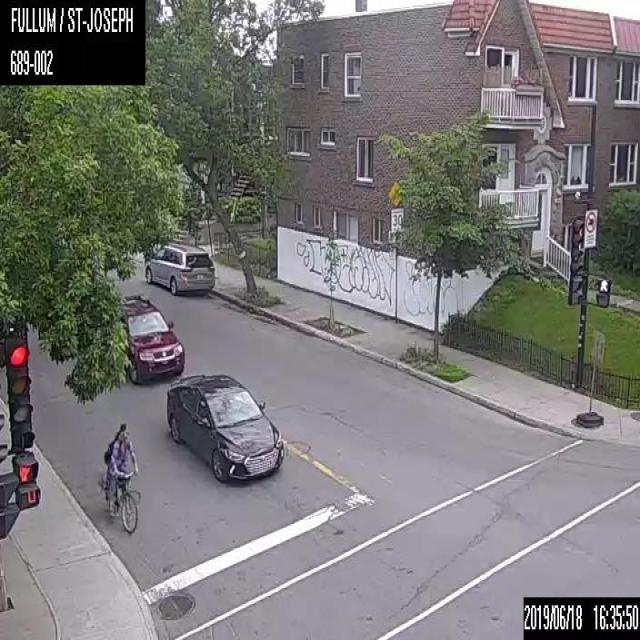construction: (570, 326, 605, 428)
cyclist: (100, 423, 142, 533)
vehicle: (166, 372, 284, 485), (119, 296, 184, 384), (143, 240, 216, 296)
